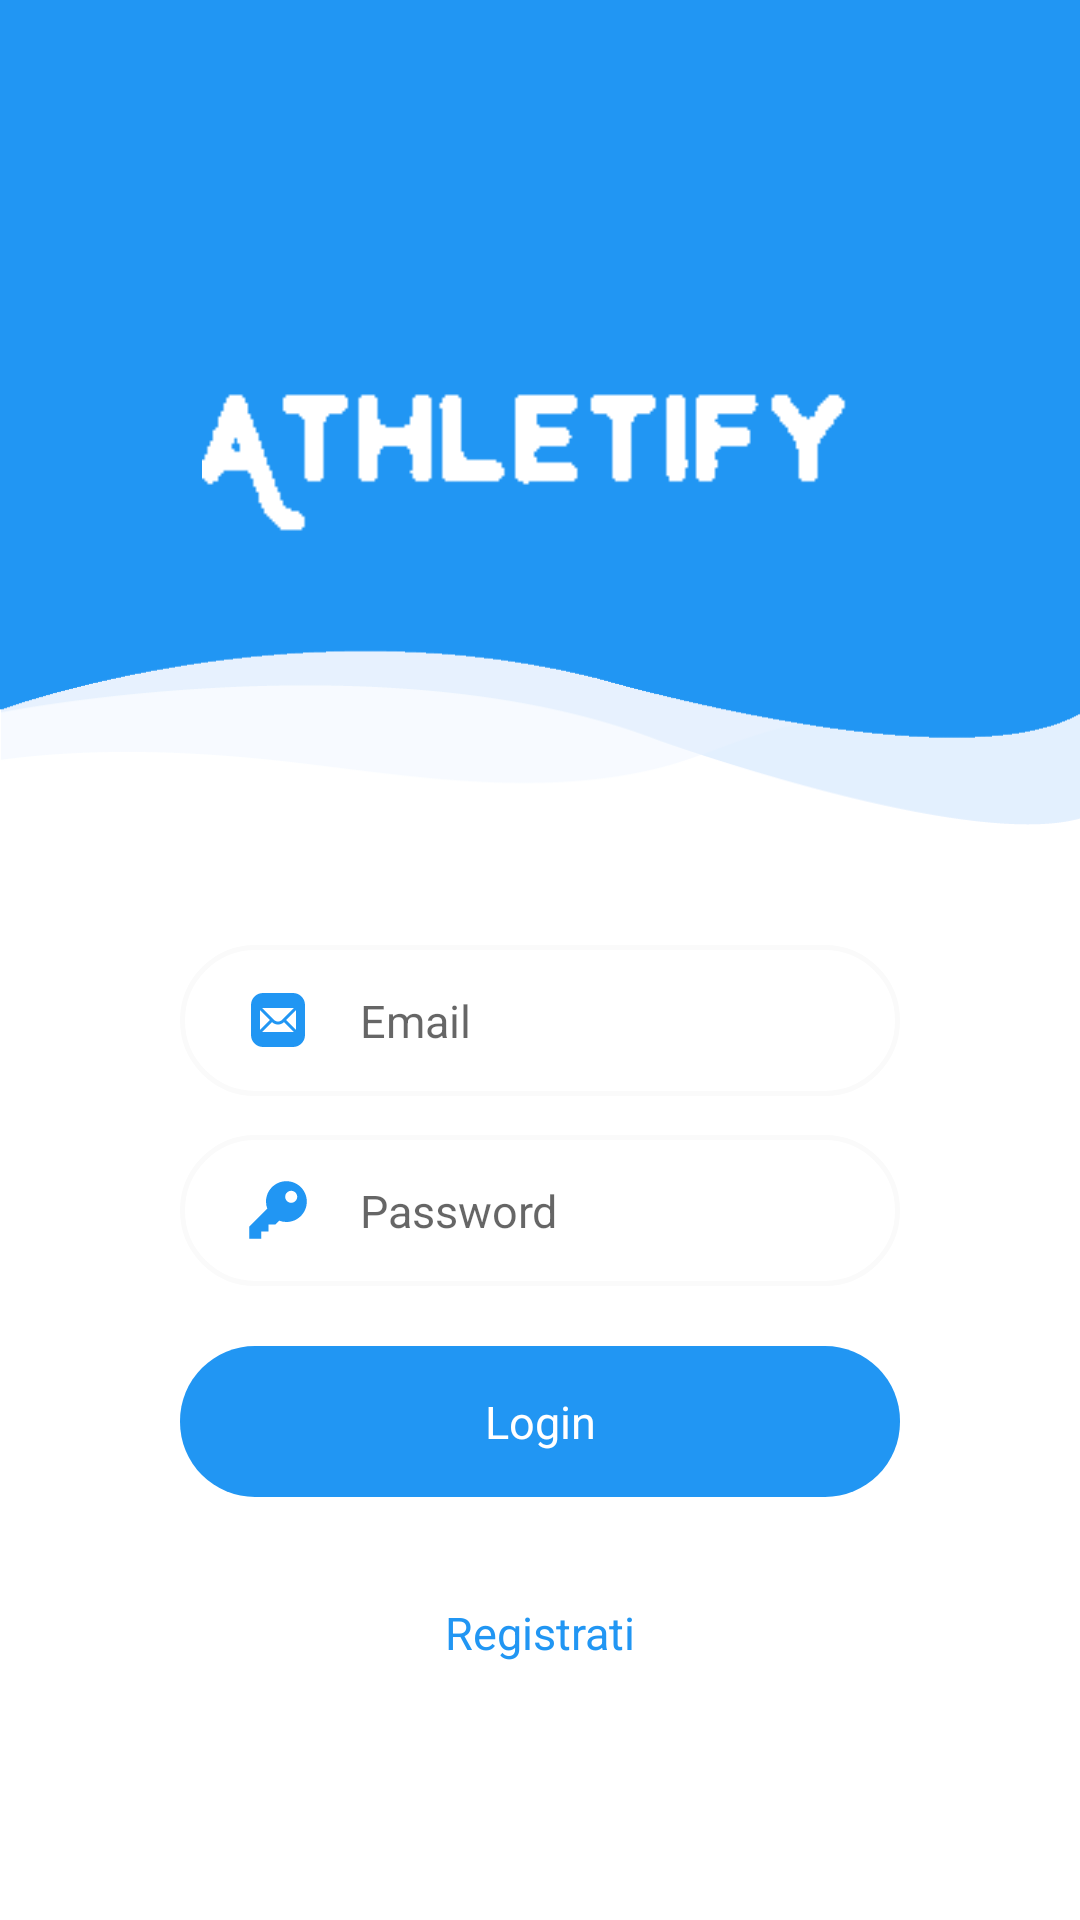

Screen size 1080px×1920px. Icon name, then its box in pixels as [x1,y1,x2,y2]:
chiave: [249,1181,307,1239]
